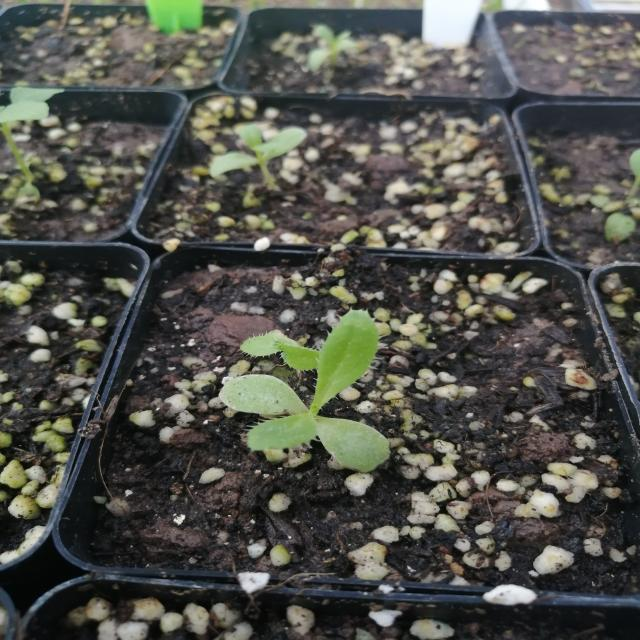field_thistle: (180, 290, 408, 486)
